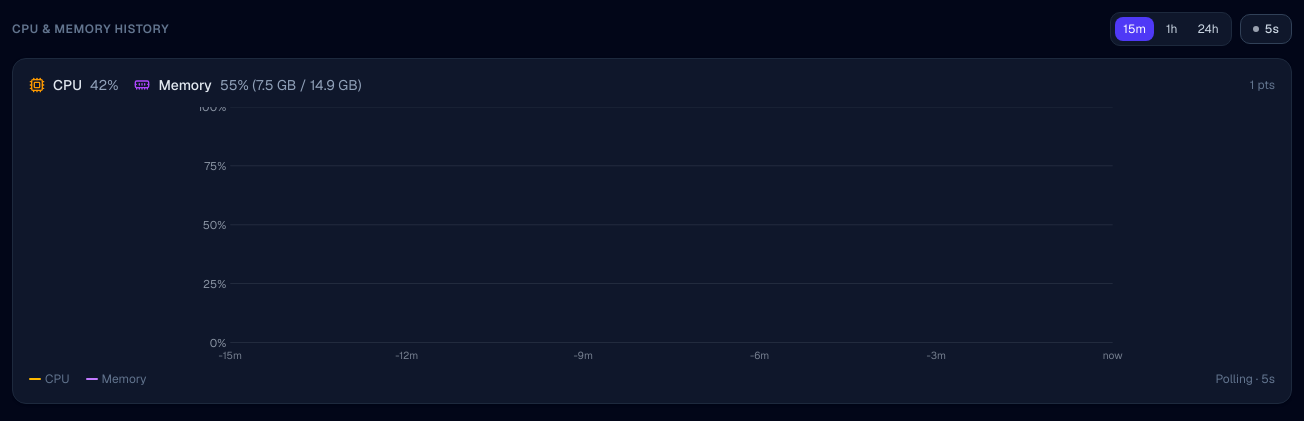
CpuMemHistorySection › clicking Live button toggles live mode
The image size is (1304, 421).
Click the button "5s": (1266, 29) [1240, 14, 1292, 44]
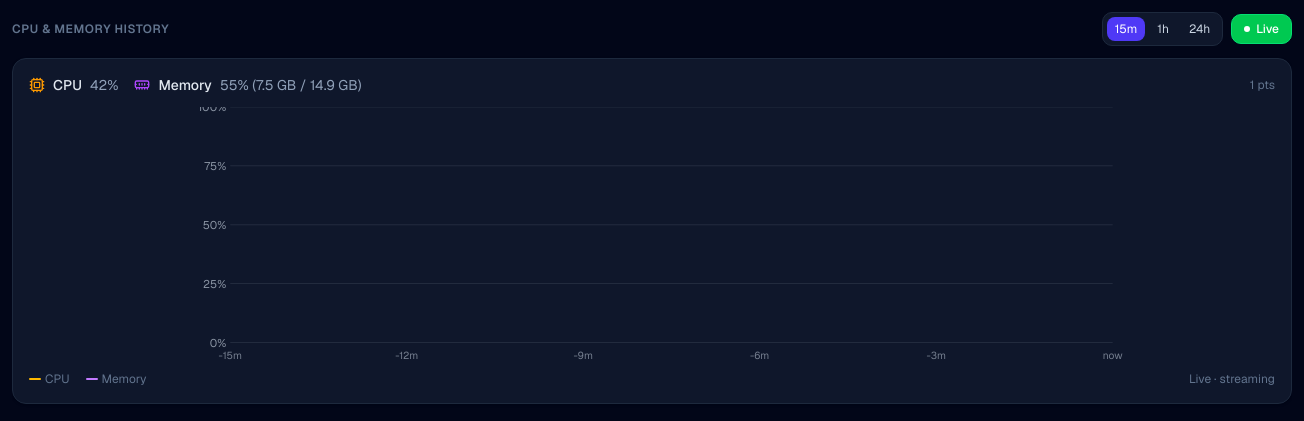
Now the button "Live" is shown, box [1231, 14, 1292, 44]
